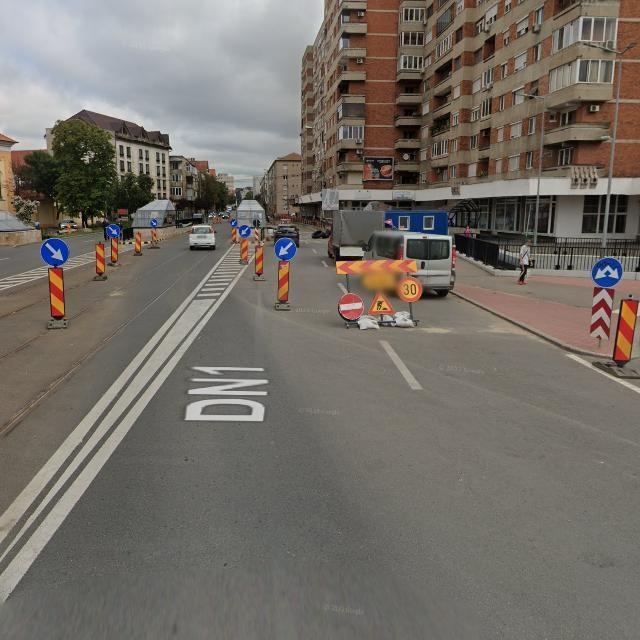forb_speed_over_30: (397, 275, 423, 303)
